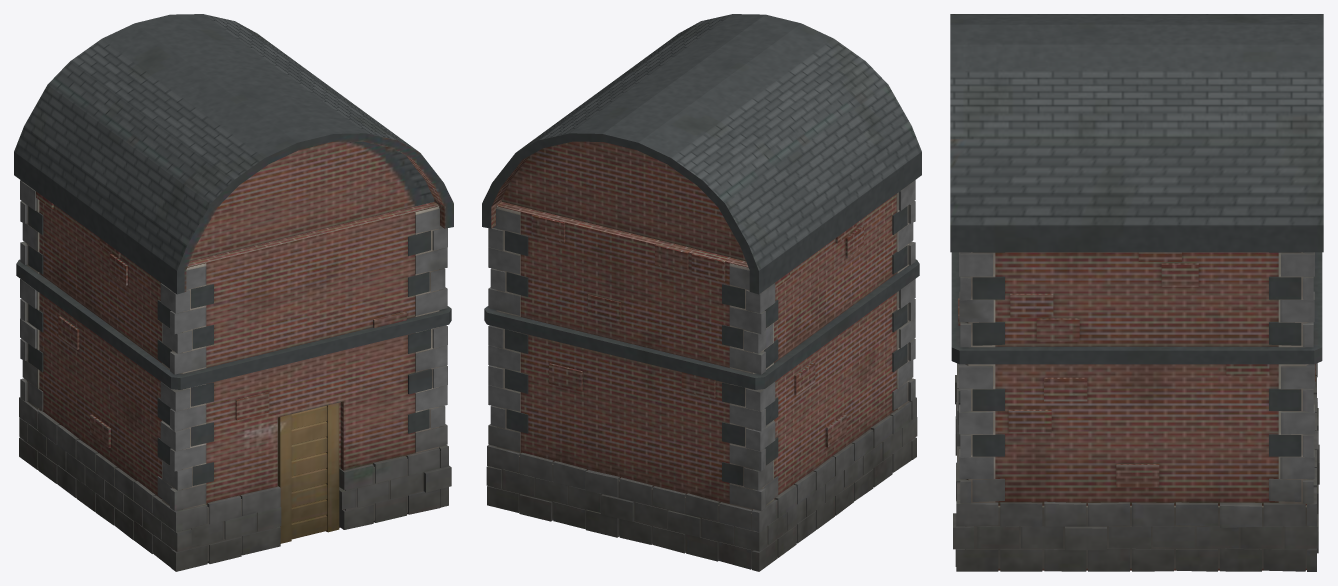
Rendered from 2Story_RoundRoof.glb.
The picture shows the model from 3 angles, left to right: view 1: azimuth 30°, elevation 25°; view 2: azimuth 150°, elevation 25°; view 3: azimuth 270°, elevation 25°; orthographic projection. The views are drawn at different scales.
Visible parts, largest first — view 1: 2Story_RoundRoof_medium; view 2: 2Story_RoundRoof_medium; view 3: 2Story_RoundRoof_medium.
Part boxes in pixels (x1=…): 2Story_RoundRoof_medium: x1=14, y1=14, x2=453, y2=571; 2Story_RoundRoof_medium: x1=482, y1=14, x2=921, y2=571; 2Story_RoundRoof_medium: x1=950, y1=14, x2=1323, y2=571.
Bounding box in the file's own units: 2.11 × 2.9 × 2.13.
Materials: 1 (1 with a texture image).
